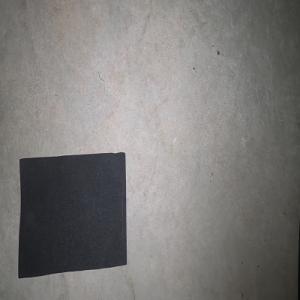PaintChip: (18, 152, 126, 278)
